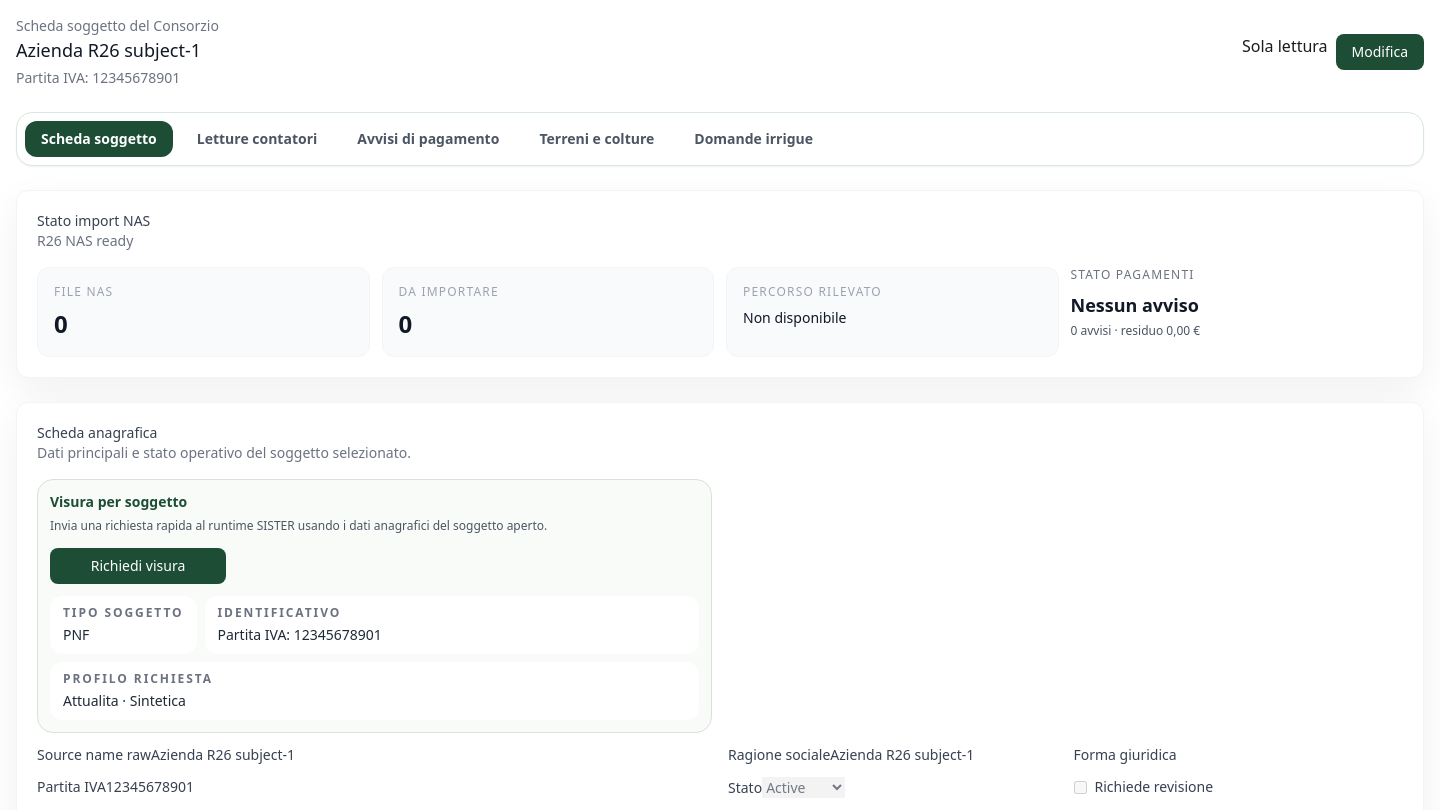
R26 public manual-upload access and modal › Nessun dato rilevato nel NAS, importa manualmente opens the same empty public modal
This screenshot has width=1440, height=810.
Expected: the text "R26 NAS ready" is shown, [37,231,133,250]
Click the button "Modifica" at (1380, 52), box [1336,34,1424,70]
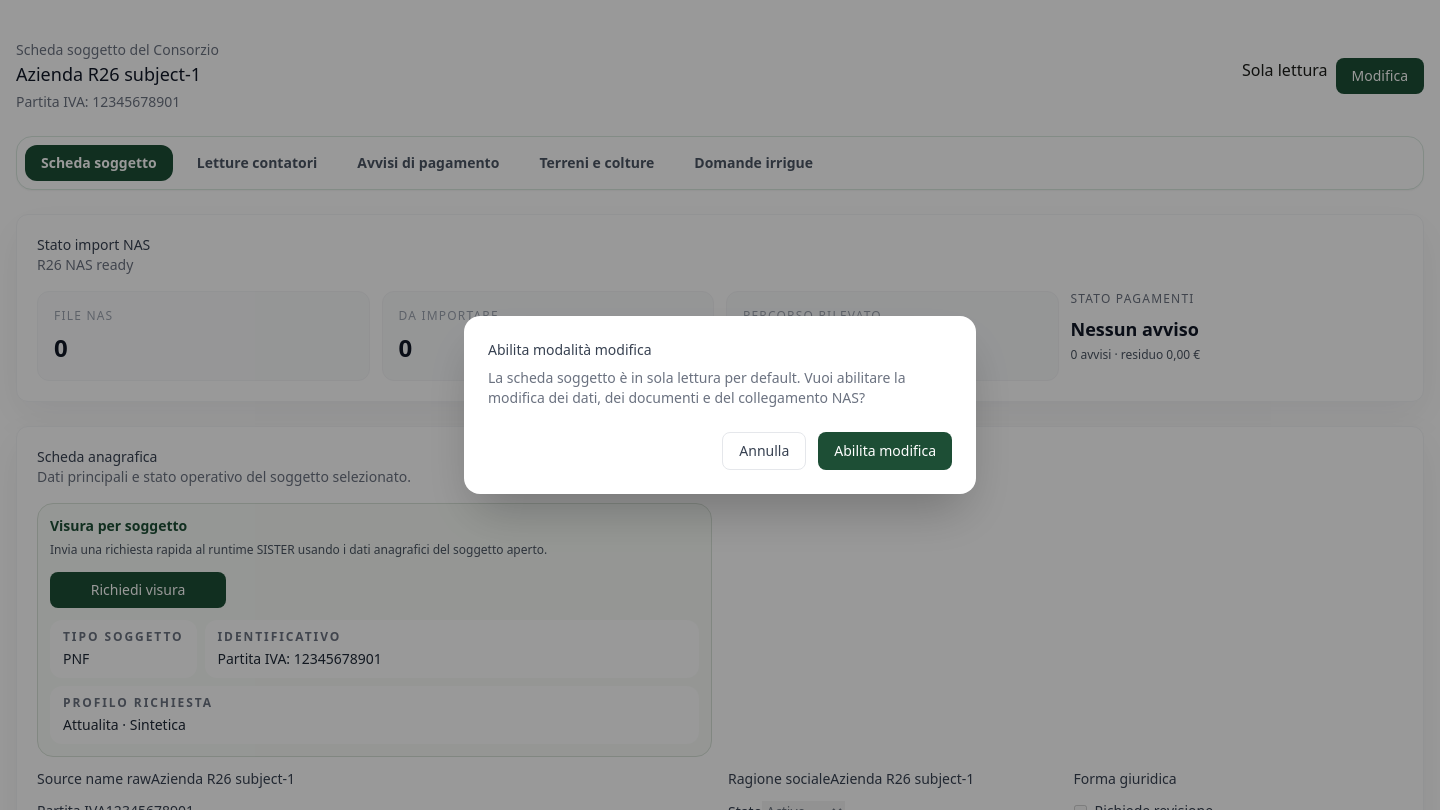
Click the button "Abilita modifica" at (885, 451), box [818,432,952,470]
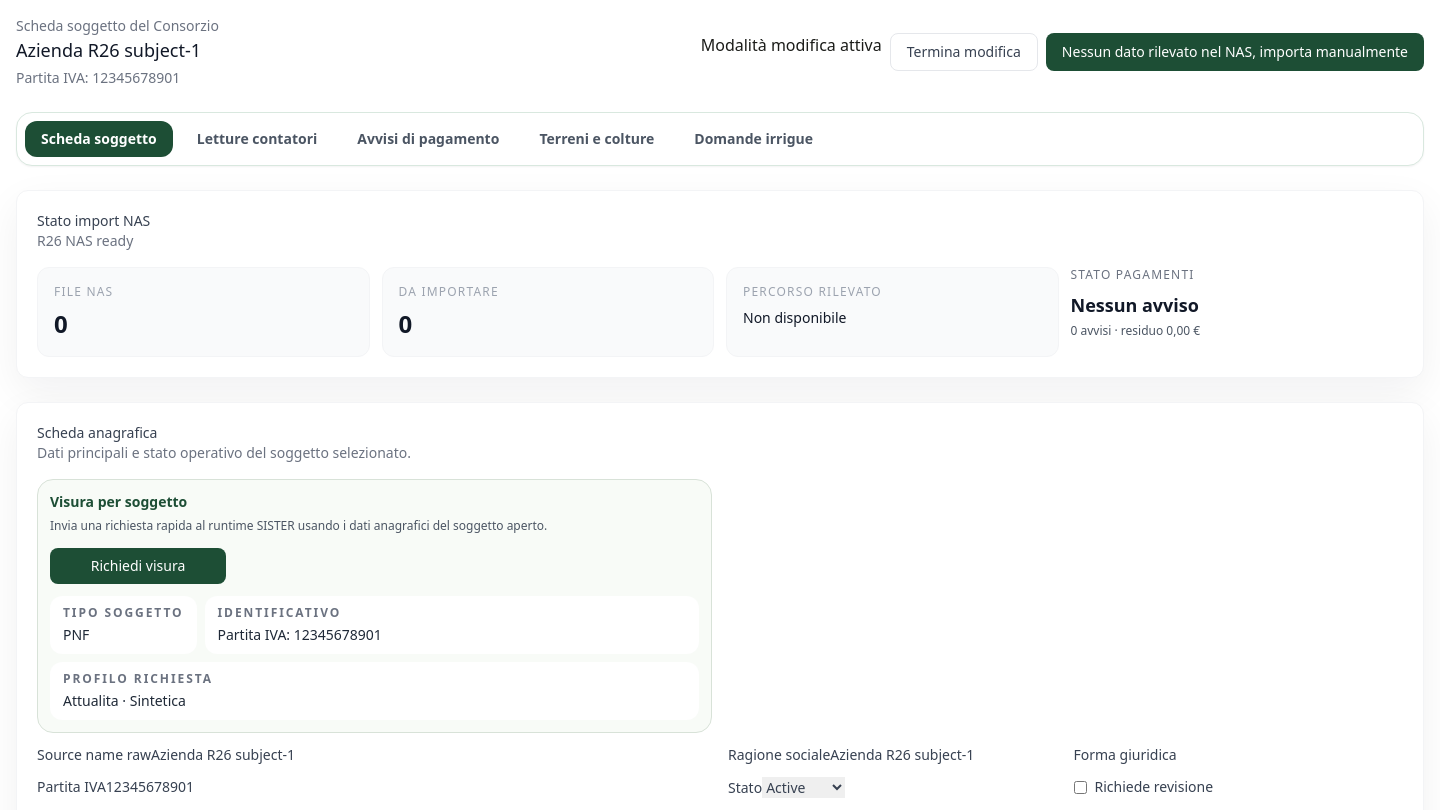
Expected: the text "Modalità modifica attiva" is shown, [701,34,882,56]
Click the button "Nessun dato rilevato nel NAS, importa manualmente" at (1235, 52), box [1046,33,1424,71]
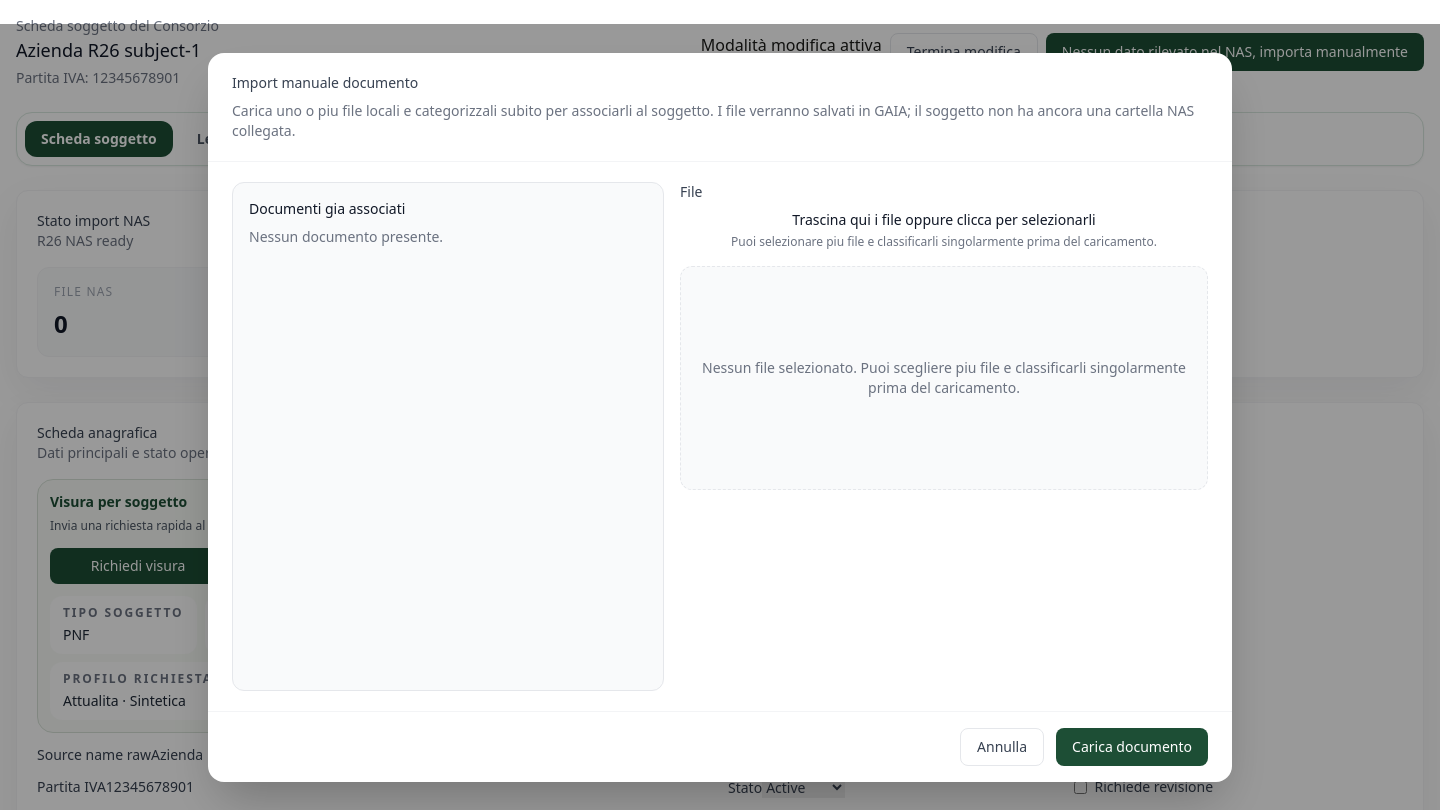
Expected: the text "Import manuale documento" is shown, [232,72,418,92]
Expected: the text "Nessun file selezionato. Puoi scegliere piu file e classificarli singolarmente prima del caricamento." is shown, [702,358,1186,396]
